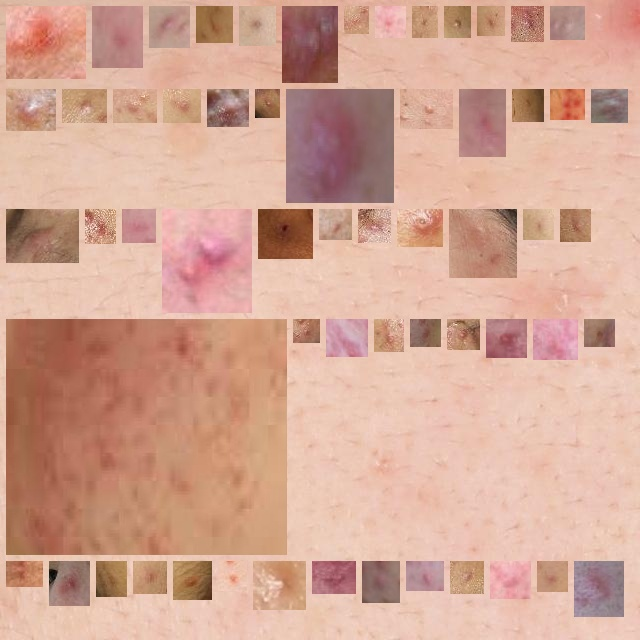papule: (14, 327, 279, 547), (294, 97, 386, 195), (170, 217, 244, 305), (14, 14, 78, 71), (457, 217, 509, 270), (290, 14, 330, 75), (14, 217, 71, 255), (467, 97, 498, 149), (100, 14, 135, 60), (582, 569, 616, 609), (266, 217, 305, 251), (261, 569, 298, 602), (408, 97, 445, 121), (14, 97, 48, 123), (541, 327, 570, 352), (57, 569, 82, 598), (405, 217, 435, 239), (157, 14, 182, 40), (367, 569, 392, 595), (494, 327, 519, 350), (215, 97, 241, 119), (334, 327, 360, 349), (498, 569, 523, 591), (181, 569, 204, 592), (70, 97, 99, 115), (247, 14, 268, 38), (121, 97, 149, 115), (320, 569, 348, 586), (204, 14, 225, 35), (171, 97, 193, 115), (599, 97, 620, 115), (558, 14, 577, 32), (519, 14, 536, 34), (130, 217, 148, 235), (414, 569, 436, 583), (366, 217, 383, 235), (141, 569, 159, 586), (458, 569, 476, 586), (104, 569, 119, 589), (558, 97, 577, 112), (93, 217, 108, 236), (520, 97, 536, 114), (327, 217, 344, 232), (568, 217, 583, 234), (455, 327, 472, 342), (383, 14, 398, 30), (382, 327, 396, 344), (531, 217, 546, 232), (545, 569, 560, 584), (14, 569, 35, 579), (226, 569, 239, 583), (418, 327, 433, 339), (592, 327, 607, 339), (452, 14, 463, 30), (485, 14, 497, 28), (420, 14, 430, 30), (263, 97, 272, 110), (352, 14, 361, 26), (301, 327, 312, 335)
